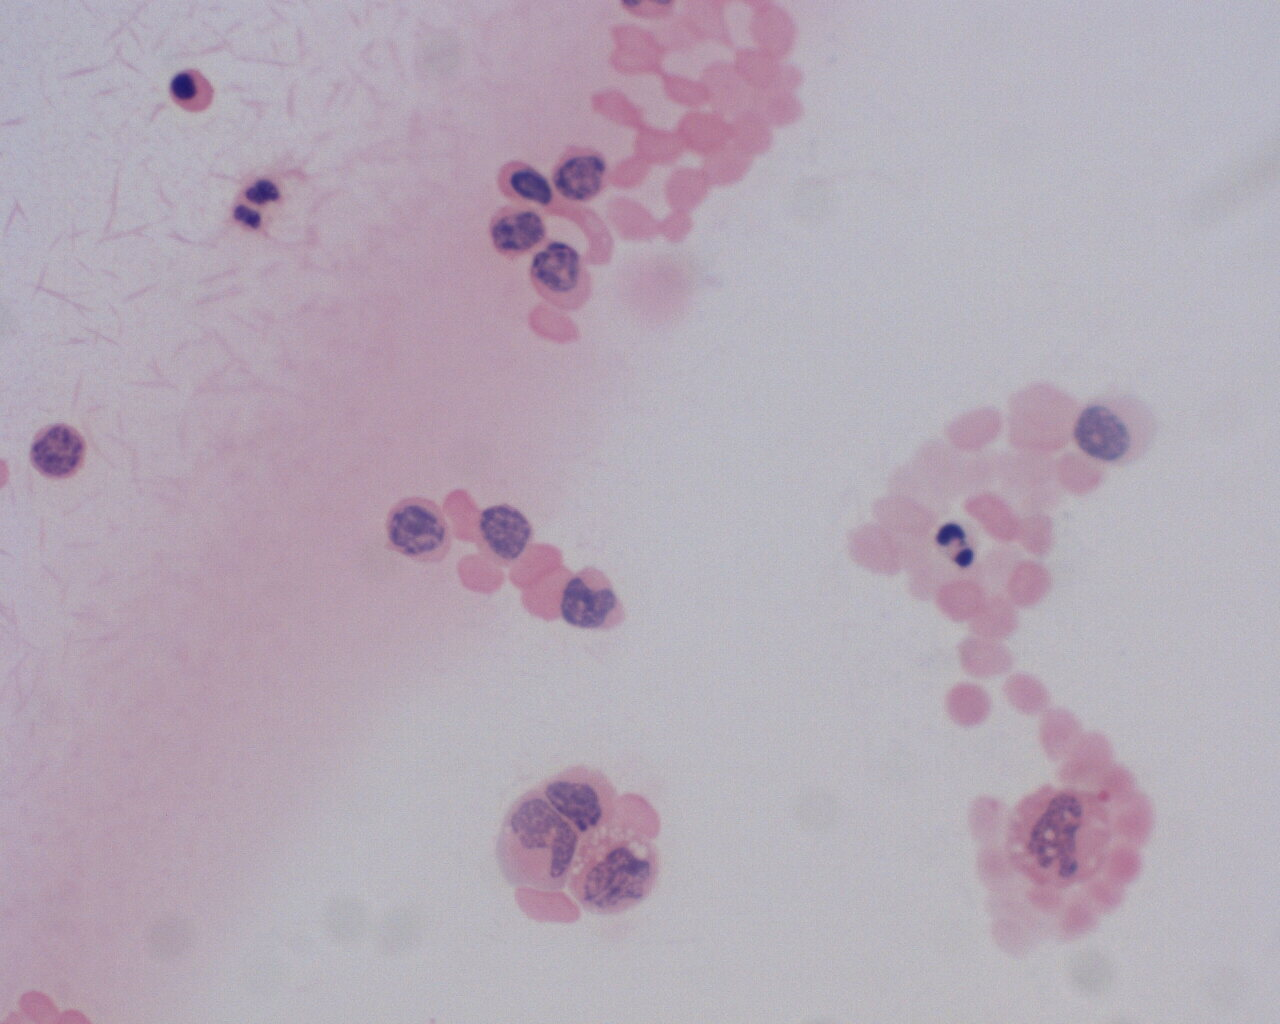ab: (530, 239, 600, 319), (385, 493, 449, 565), (549, 144, 610, 207), (491, 200, 545, 256)
meso: (166, 61, 222, 115)
neutro: (934, 519, 979, 571)
